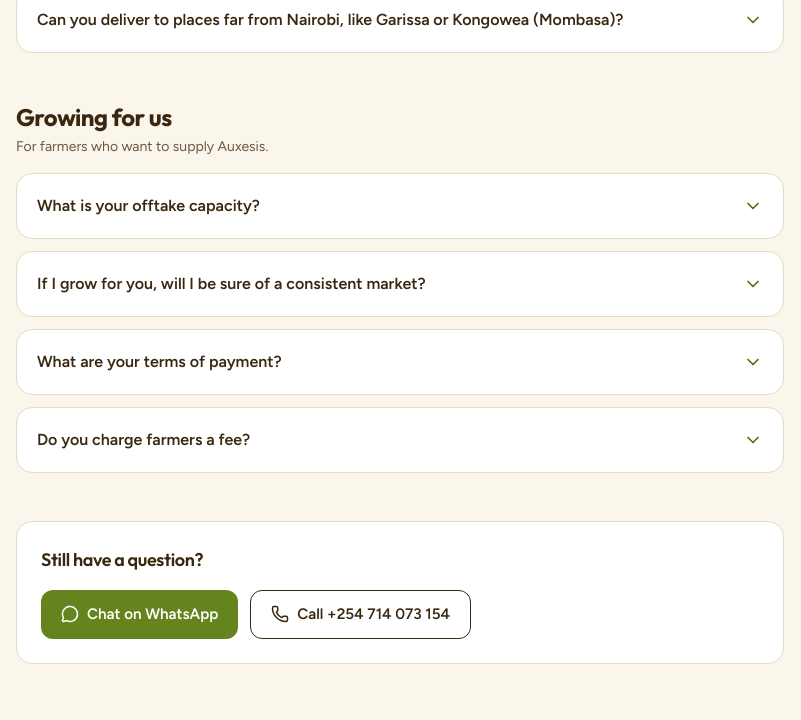
Test: Faq page › opens an answer when its question is clicked
(page scrolled)
Click the heading "What are your terms of payment?" at (159, 362), box [37,352,763,372]
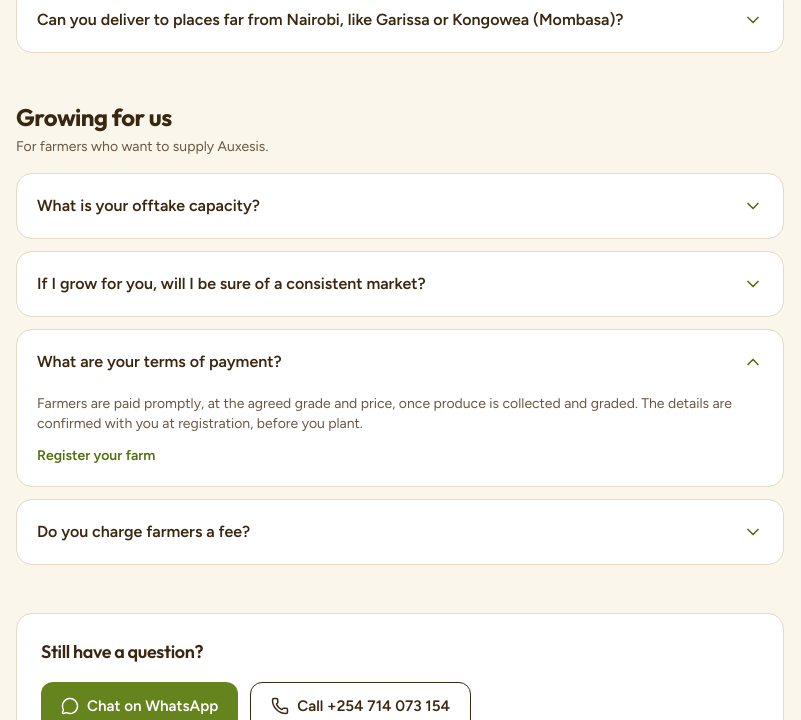
Result: the text "paid promptly, at the agreed grade and price" is shown at [37,395,732,432]
